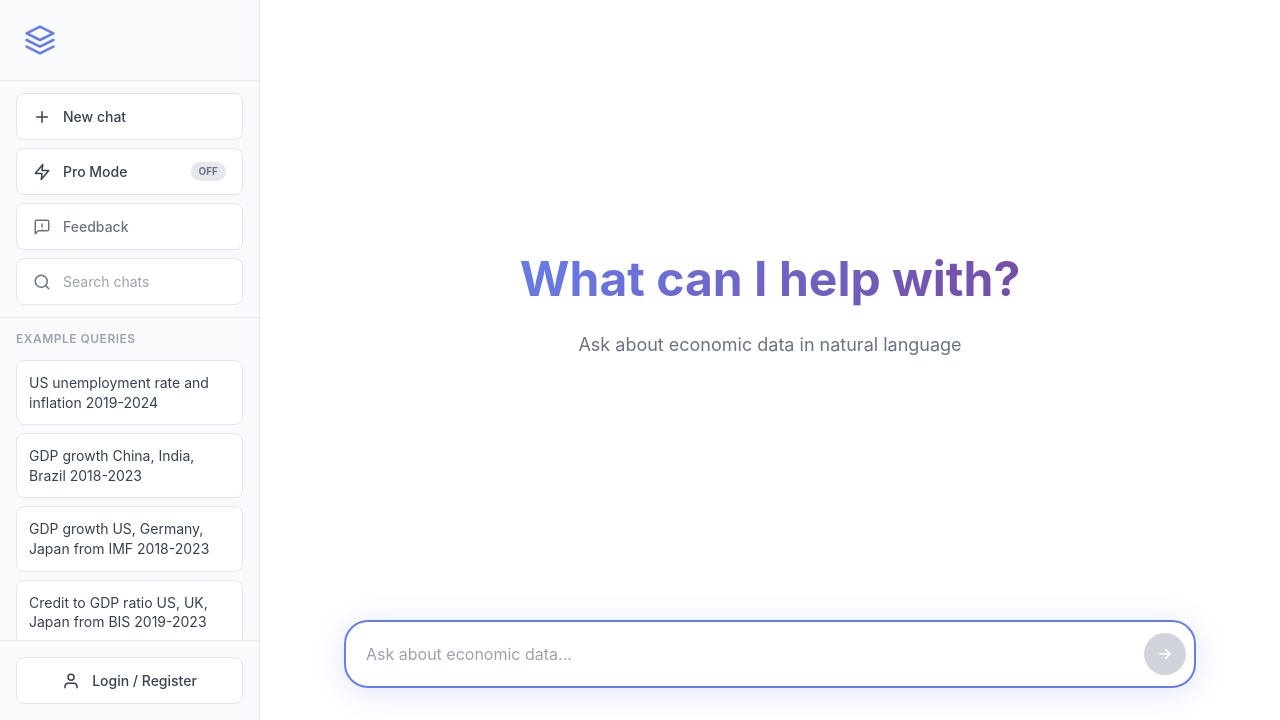
it: ChatPage › Pro Mode › toggles Pro Mode when button is clicked
Expected: the text "OFF" is shown, [190, 162, 226, 181]
// Click to toggle
Click the button "Pro Mode OFF".
click(130, 172)  # box [16, 148, 243, 195]
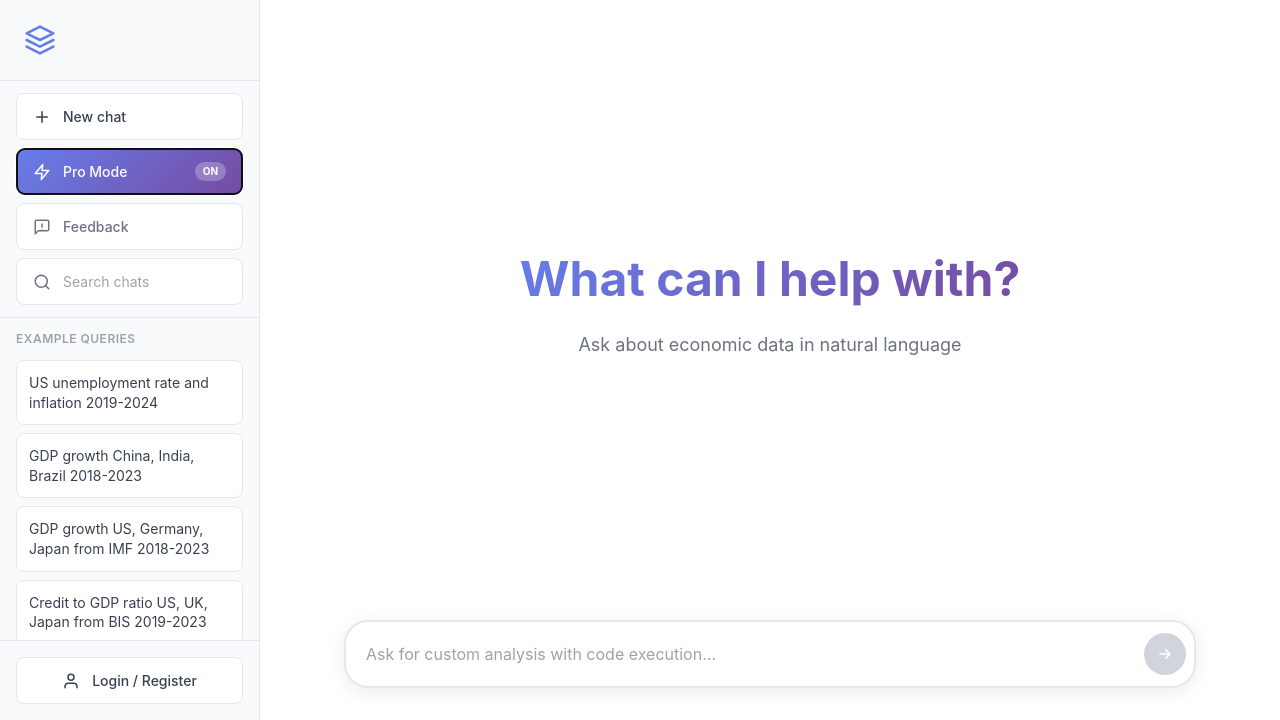
Expected: the text "ON" is shown, [195, 162, 226, 181]
